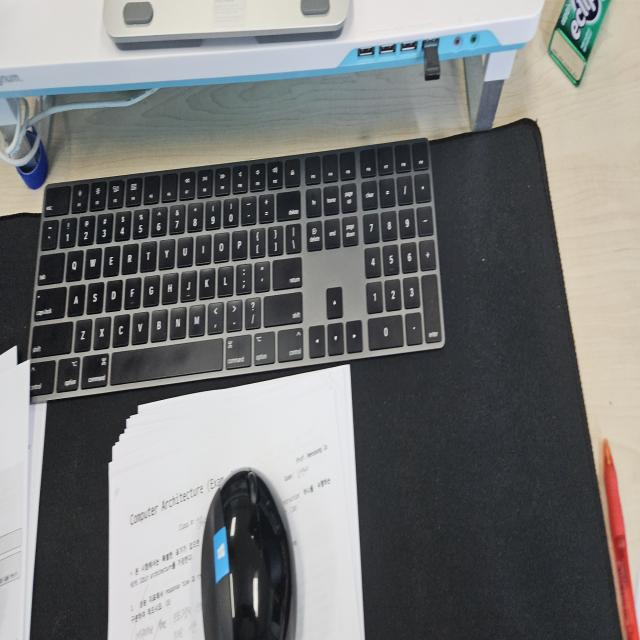Keyboard: (26, 136, 446, 402)
Mouse: (199, 464, 294, 637)
